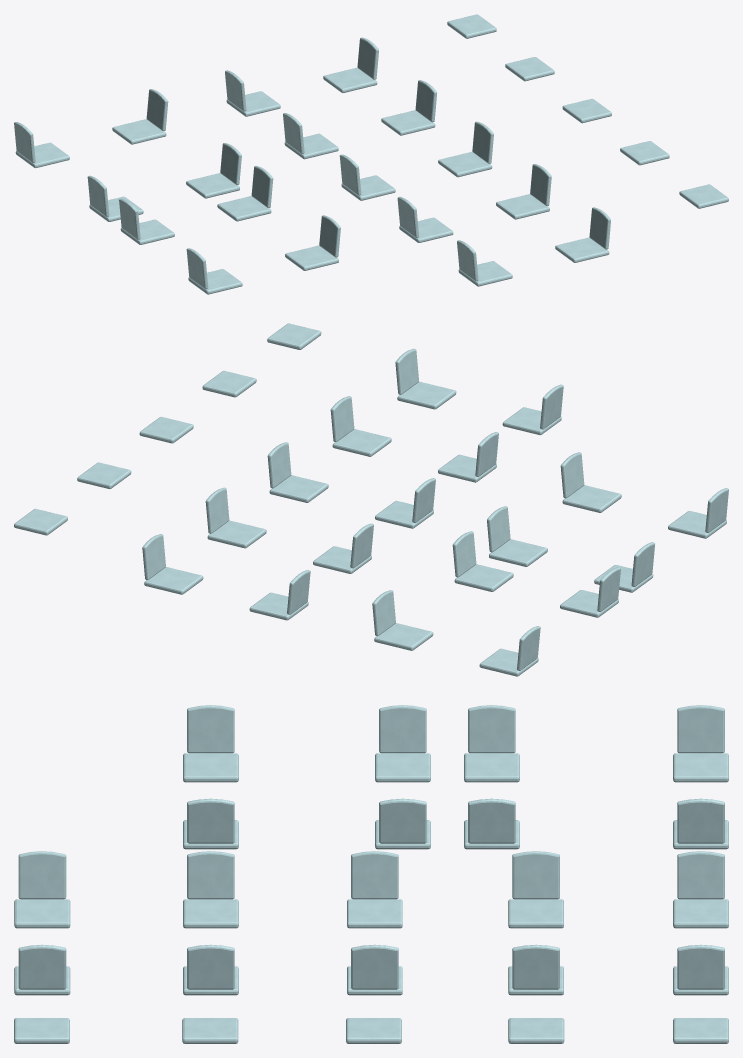
The model's file is resto_ni_teo_2.obj.
3 views of the same model, one above another, from view 1: azimuth 30°, elevation 25°; view 2: azimuth 150°, elevation 25°; view 3: azimuth 270°, elevation 25° (orthographic). The views are drawn at different scales.
Bounding box in the file's own units: 9.94 × 0.7454 × 9.31.
